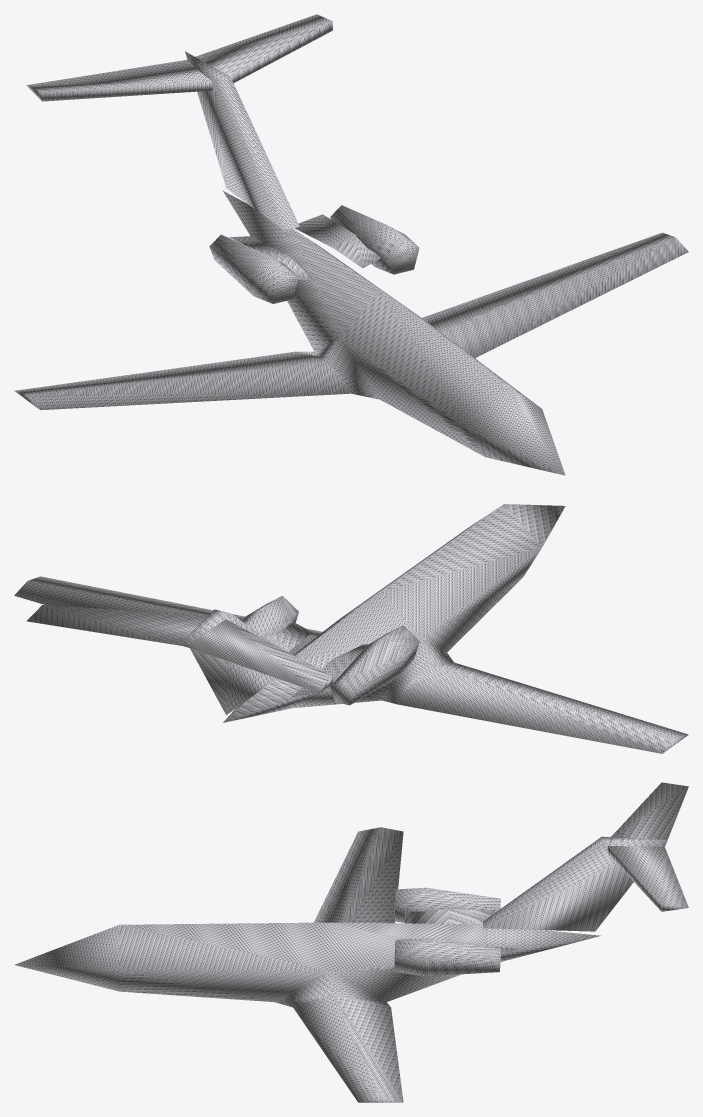
3 views of the same model, one above another, from view 1: azimuth 30°, elevation 25°; view 2: azimuth 150°, elevation 25°; view 3: azimuth 270°, elevation 25° (orthographic). The views are drawn at different scales.
Visible parts, largest first — view 1: FUSELAGE; view 2: FUSELAGE; view 3: FUSELAGE.
Boxes of the visible parts, x1,y1,x2,y2 form: FUSELAGE: (14, 14, 688, 475); FUSELAGE: (14, 504, 688, 753); FUSELAGE: (14, 782, 688, 1102).
Bounding box in the file's own units: 15.38 × 3.92 × 16.19.
